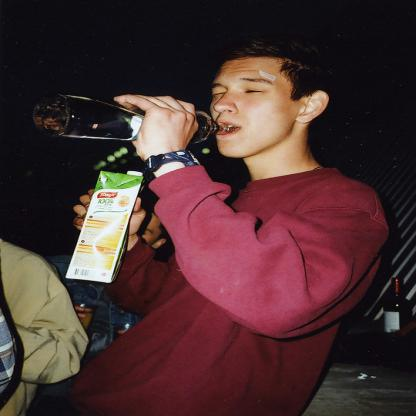drinking: (33, 94, 236, 144)
